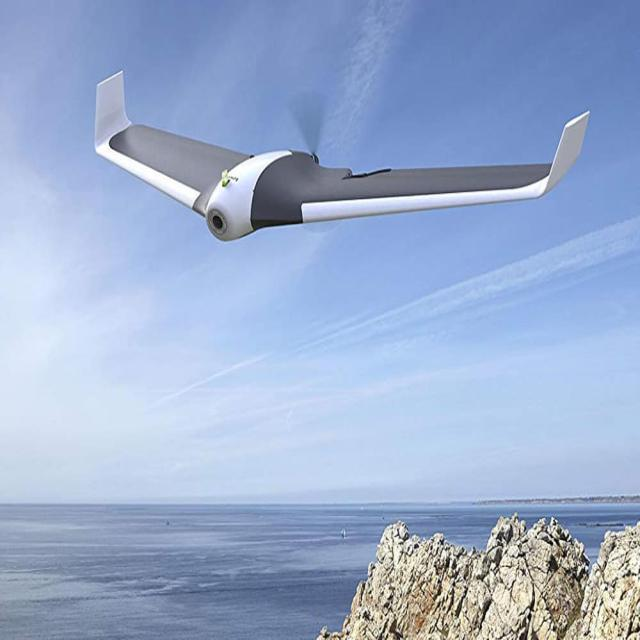iha: (85, 65, 596, 263)
